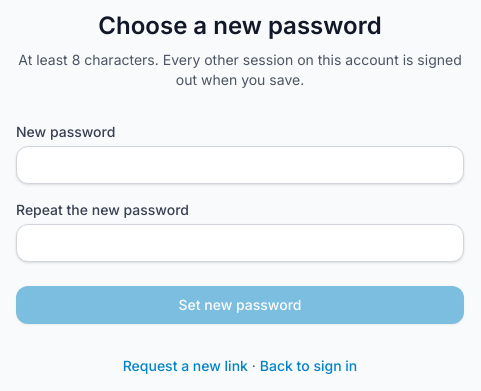
ResetPasswordPage › sends the token from the link with the new password
This screenshot has width=481, height=391.
Type "a brand new passphrase" into the password field labelled "New password" at (240, 165), box [16, 146, 464, 184]
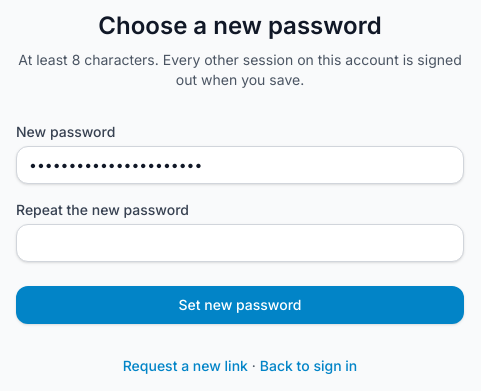
Type "a brand new passphrase" into the password field labelled "Repeat the new password" at (240, 243), box [16, 224, 464, 262]
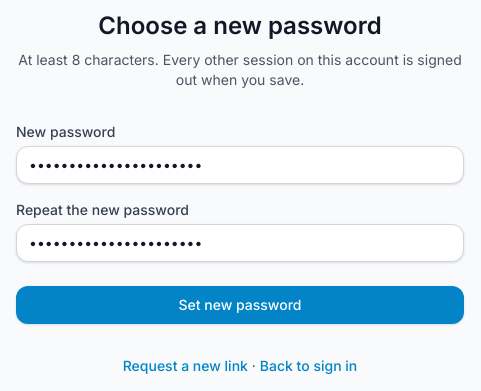
Click the button "Set new password" at (240, 305), box [16, 286, 464, 324]
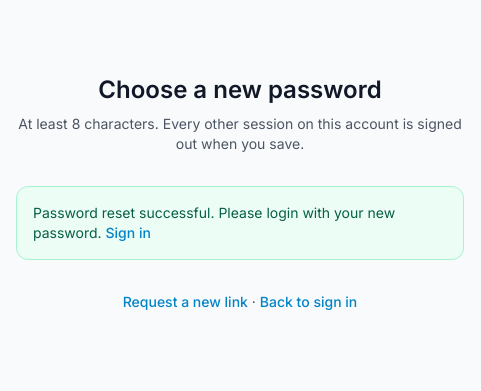
Result: the message shows "reset successful" at [33, 204, 395, 241]
Result: the link "Sign in" is shown at [106, 224, 151, 241]
